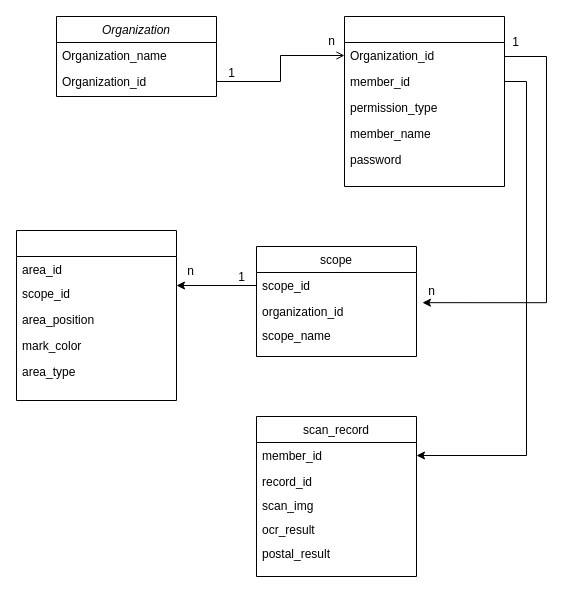
This 563x593 diagram has some shape labels left out. Here are the shapes that lost their labels. From the top down, the box of each, then its label:
(344, 16, 504, 186): organization_member
(16, 230, 176, 400): postal_area
